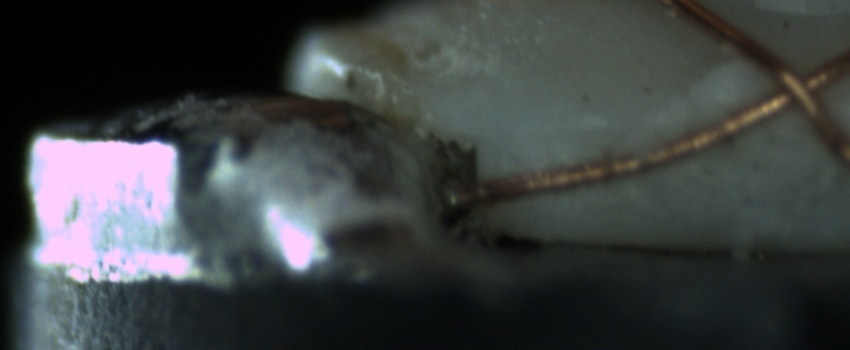CL: (751, 43, 839, 128)
DL: (511, 104, 635, 158)
